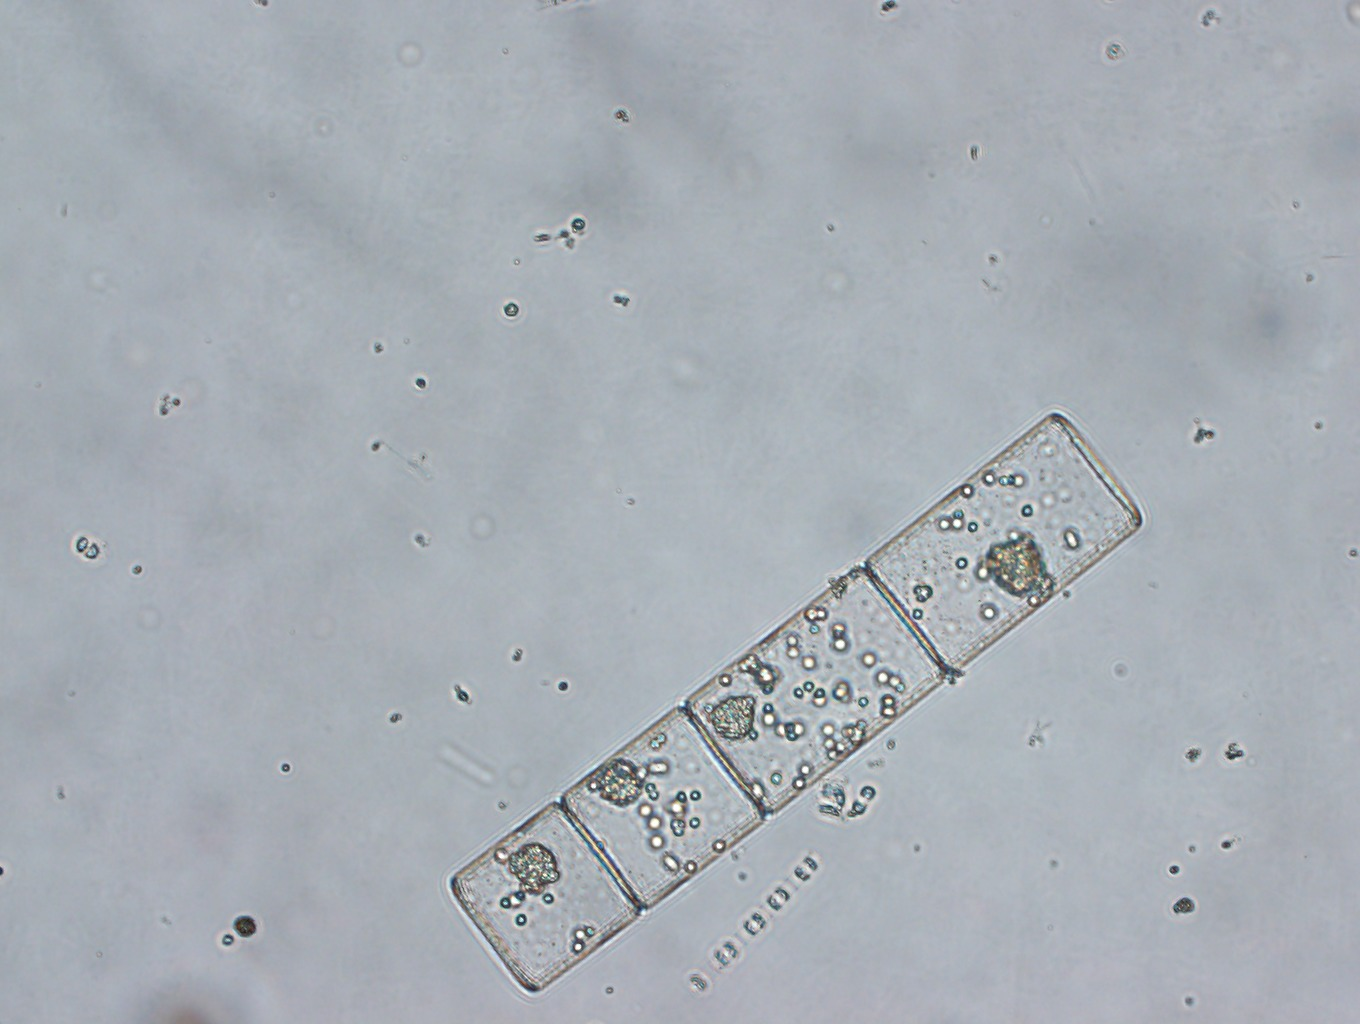guinardia flaccida: (446, 407, 1157, 1001)
